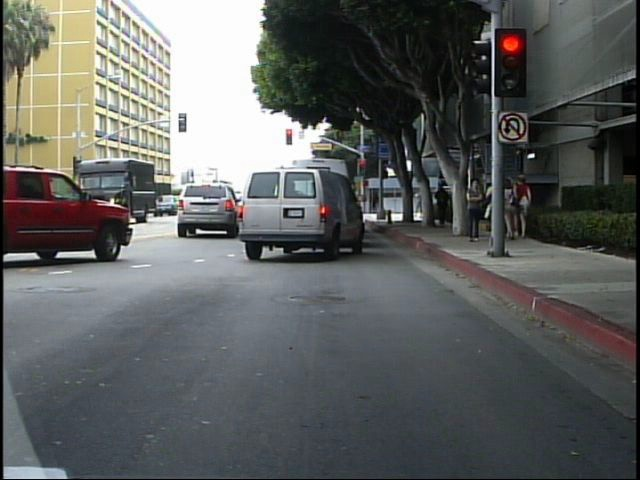person: (501, 170, 525, 252), (516, 171, 538, 243), (467, 175, 487, 245), (431, 175, 453, 230), (412, 185, 424, 217)
